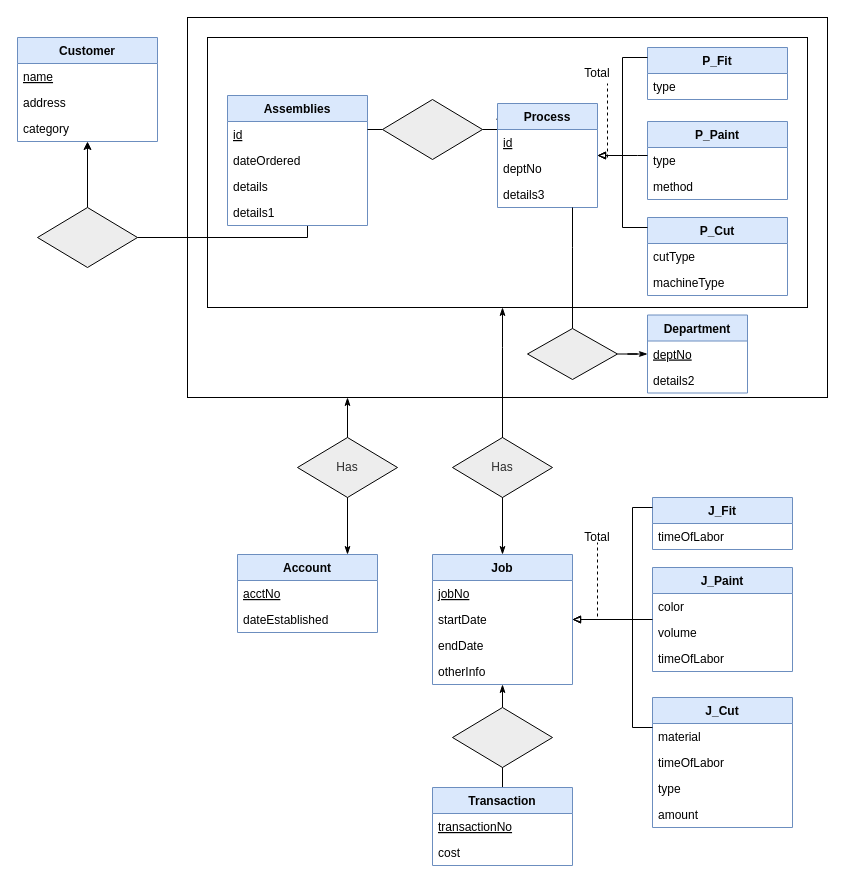
The diagram is 845 pixels wide and 886 high, and some of its shapes have lost their labels. Here are the shapes that lost their labels. From the top down, the centre of each, then its label:
At point 432,129: "Manufactures".
At point 87,237: "Orders".
At point 572,354: "ManagedBy".
At point 502,737: "Records".
